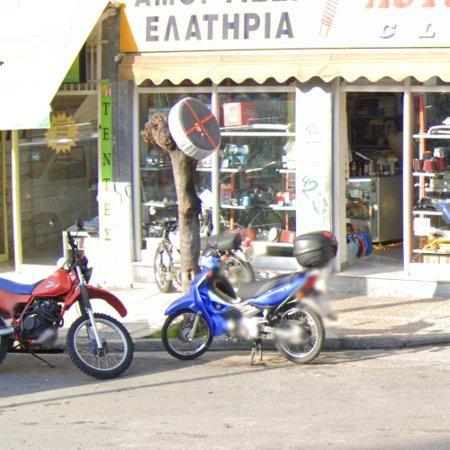motorcycles: (162, 232, 338, 364), (0, 239, 133, 380)
